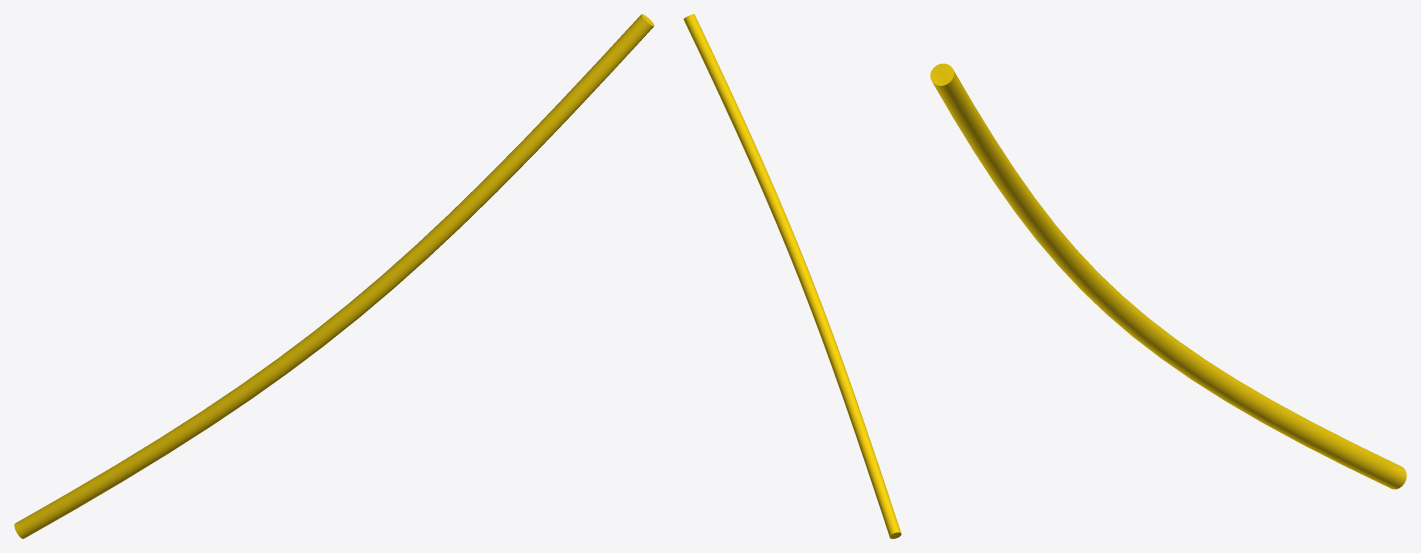
Rendered from Event_421127236_track_57.fbx.
The picture shows the model from 3 angles, left to right: view 1: azimuth 30°, elevation 25°; view 2: azimuth 150°, elevation 25°; view 3: azimuth 270°, elevation 25°; orthographic projection. The views are drawn at different scales.
Parts seen in each view (by area): view 1: Model; view 2: Model; view 3: Model.
Part boxes in pixels (x1,y1,x2,y2): Model: [14, 14, 654, 538]; Model: [683, 14, 901, 538]; Model: [930, 63, 1406, 489].
Size of the model in its own units: 1.23 by 1.31 by 0.7753.
